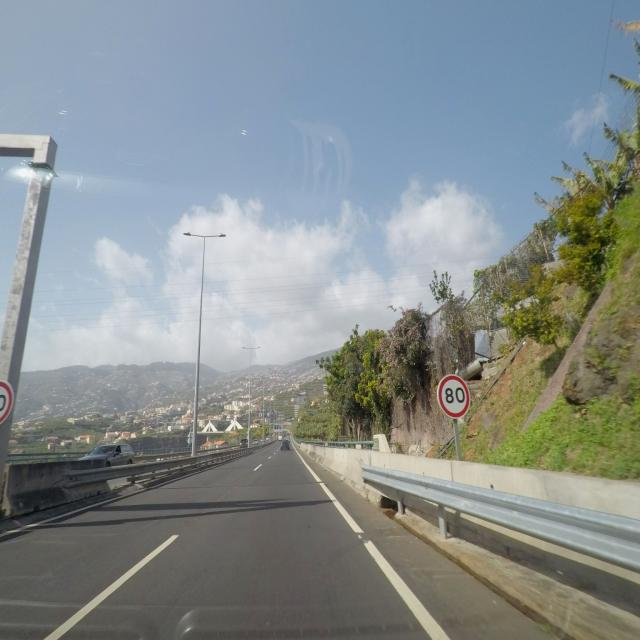car: (79, 443, 134, 465), (280, 439, 291, 451)
